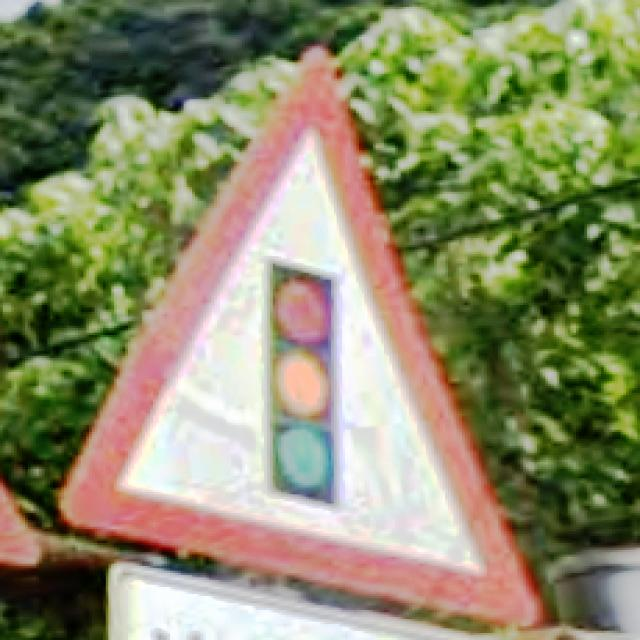signalahead: (61, 49, 542, 628)
